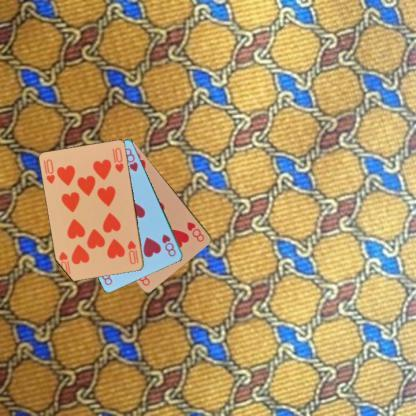10h: (125, 238, 140, 266), (44, 156, 56, 186)
8h: (184, 219, 206, 244), (160, 232, 178, 258)
